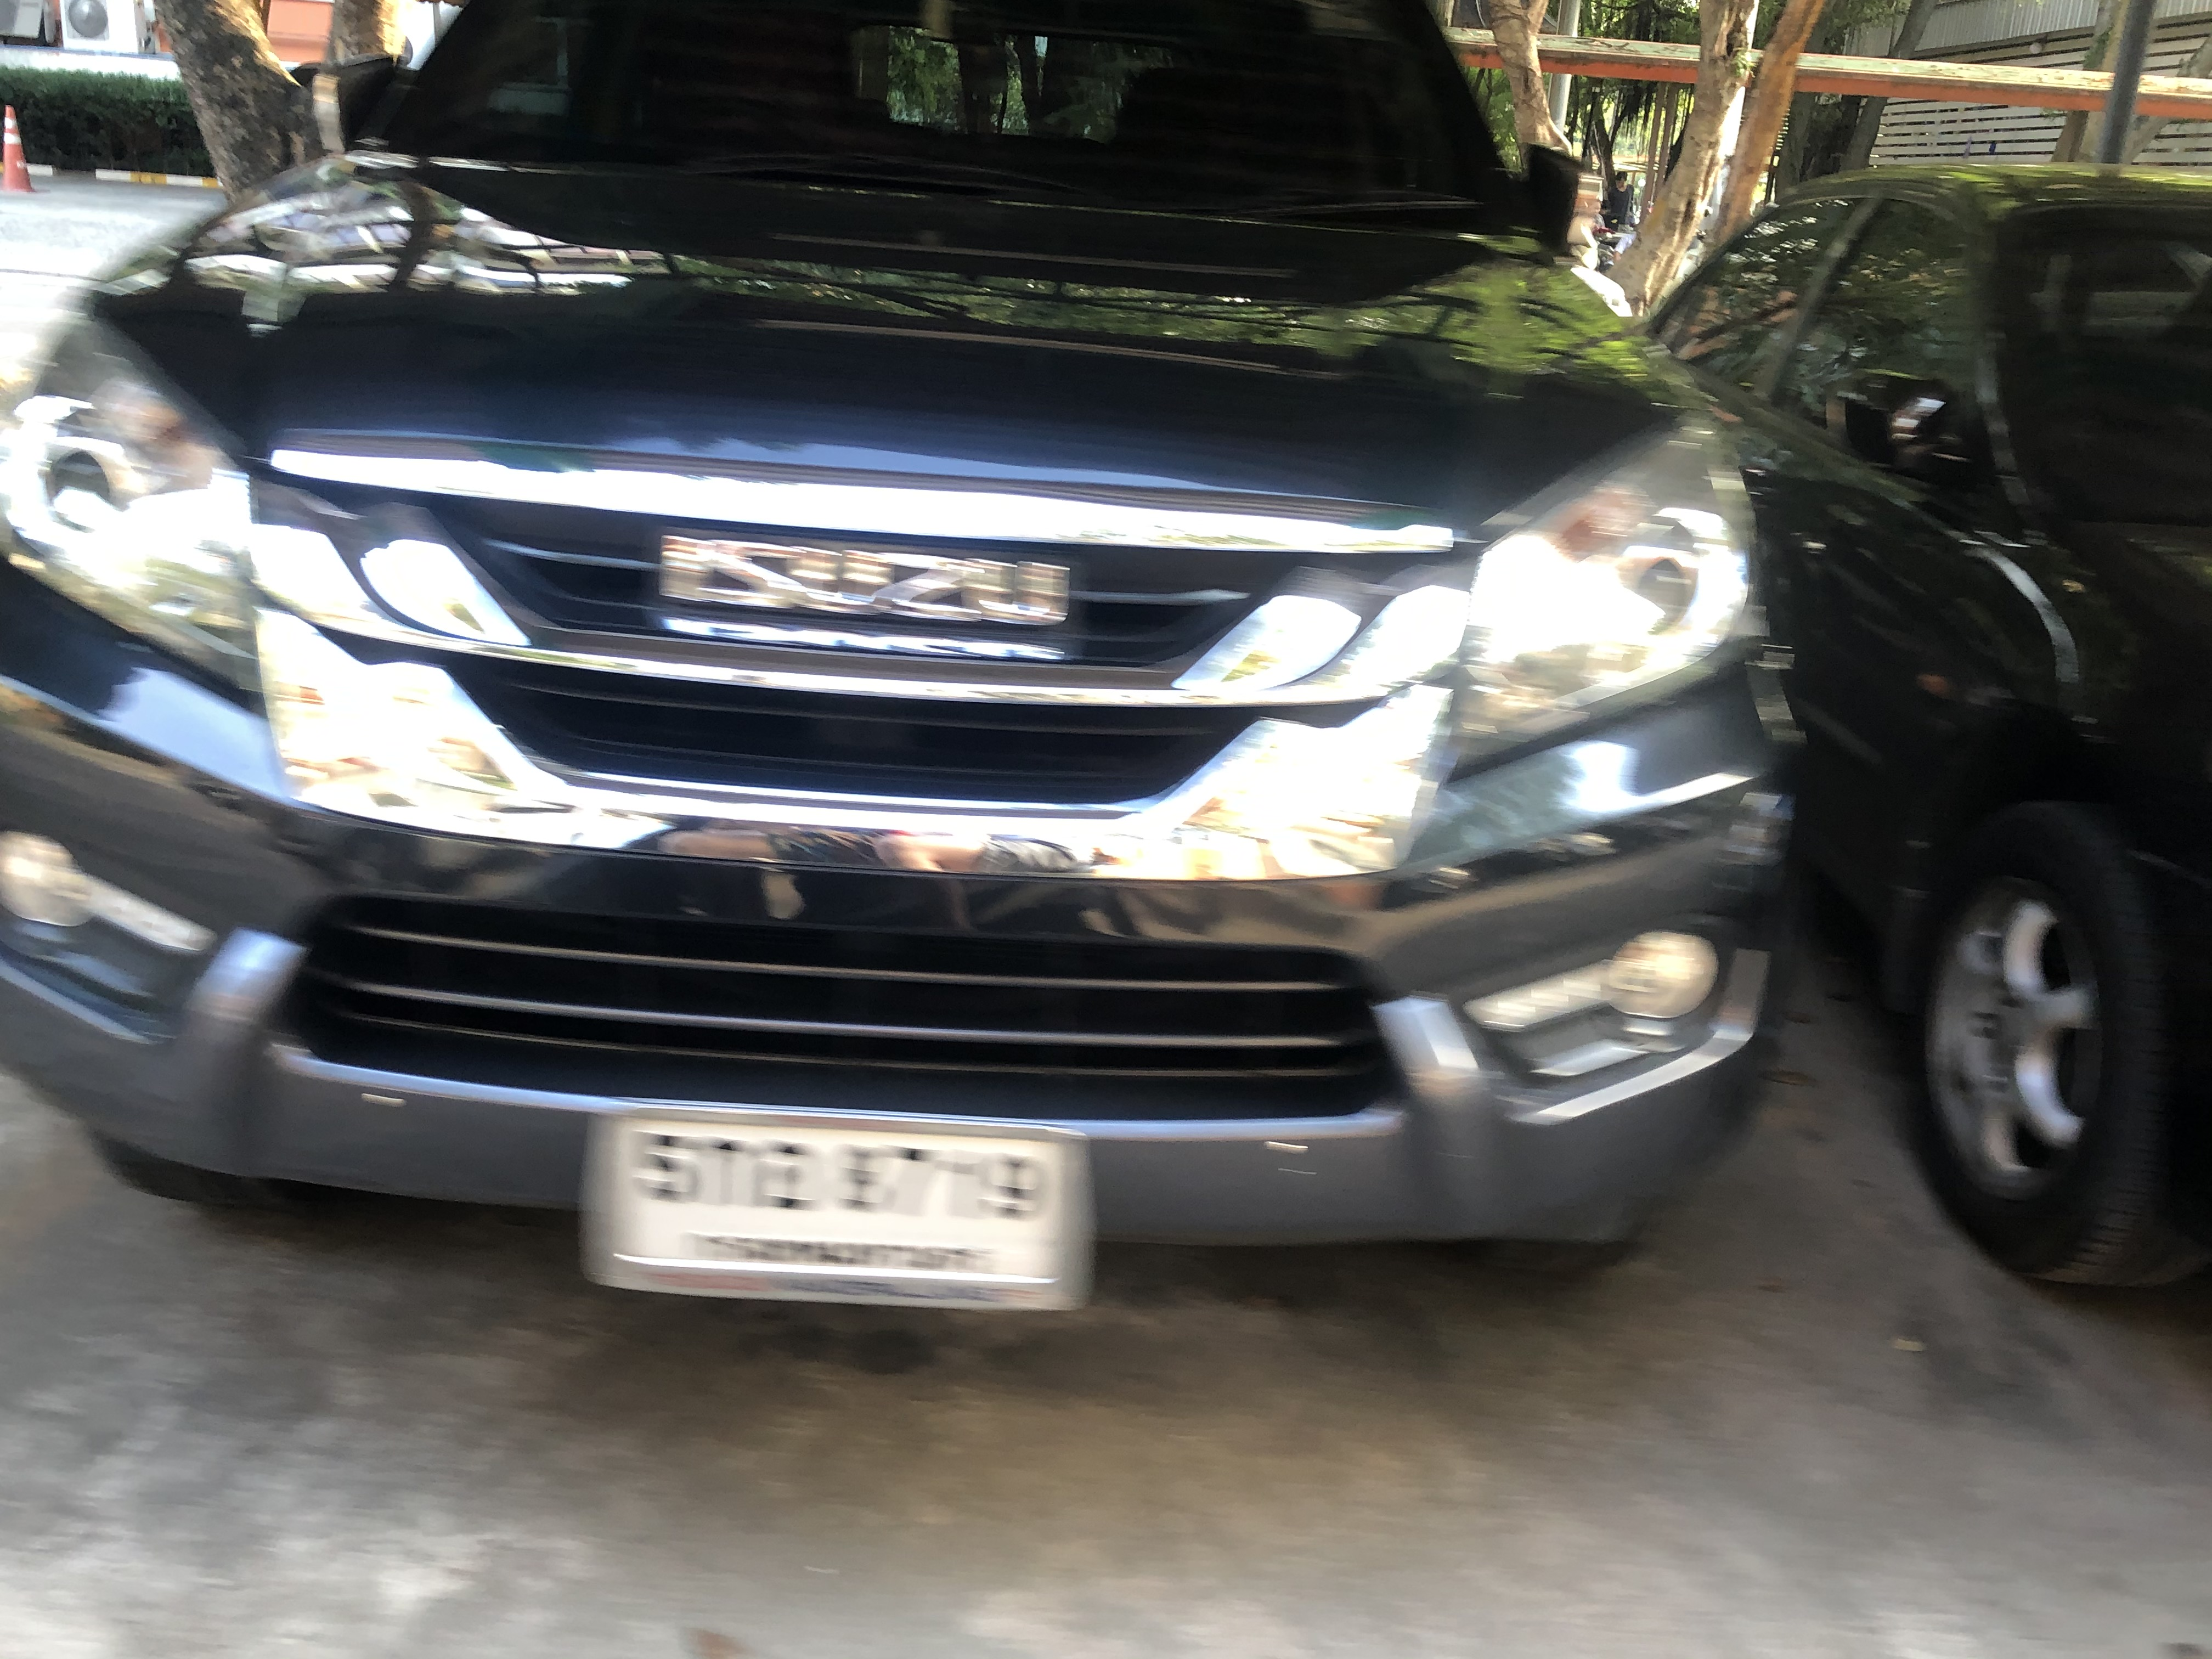in: (611, 1121, 1061, 1281)
out: (585, 1103, 1101, 1310)
